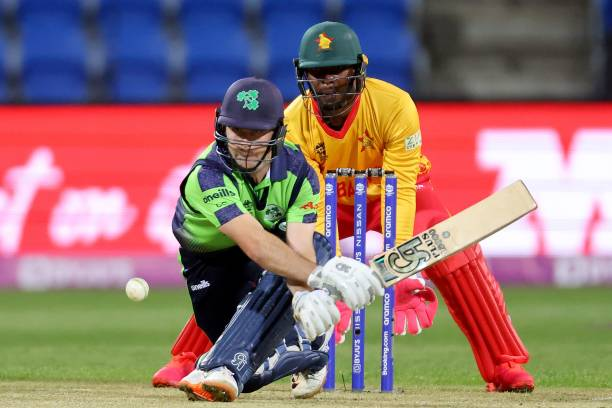bottom left: (506, 172, 531, 193)
bottom right: (523, 193, 549, 220)
top left: (358, 251, 385, 272)
top right: (377, 277, 401, 295)
